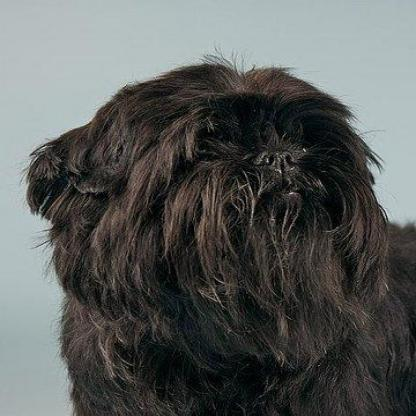affenpinscher: (15, 45, 411, 414)
